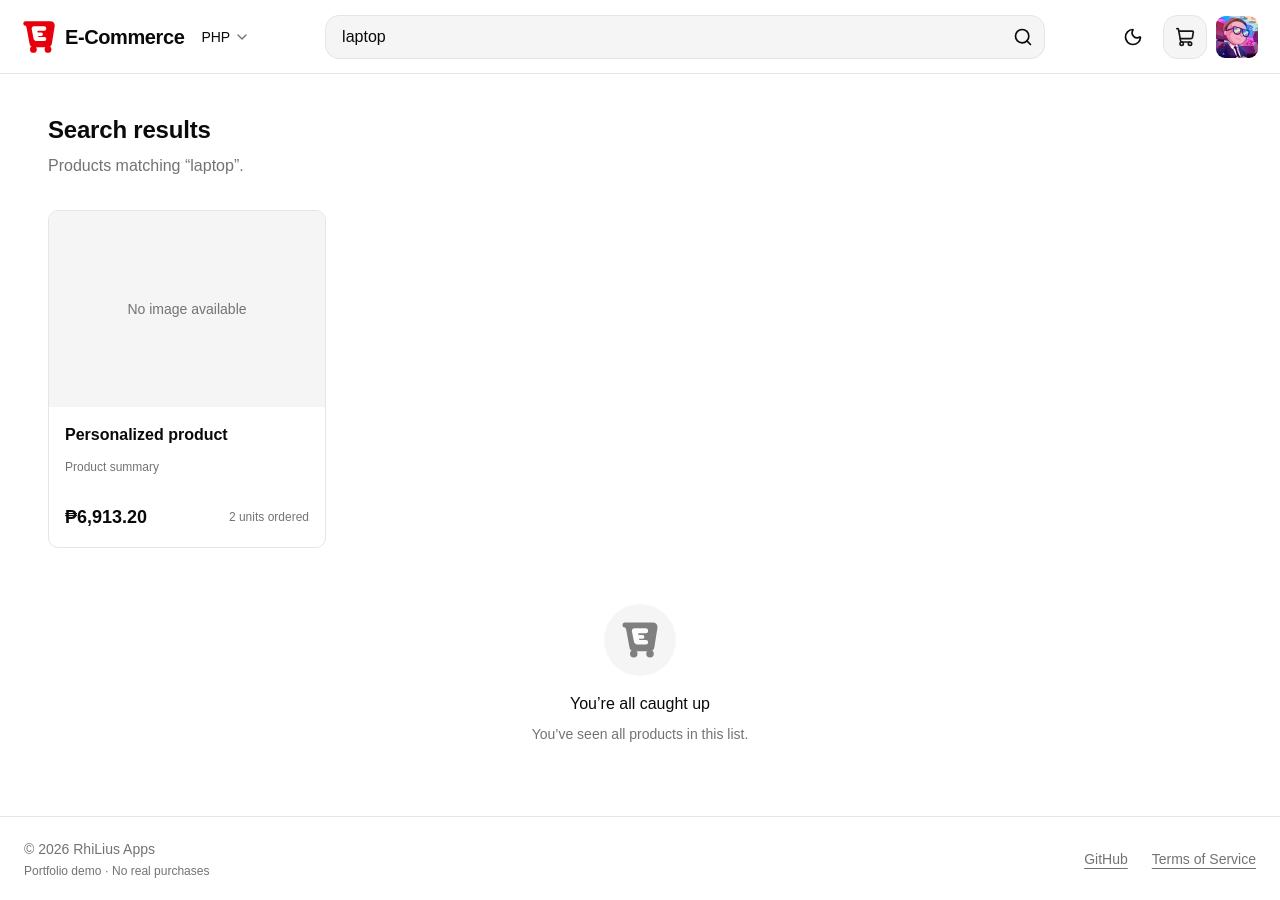
it: Public landing page › logout stays on the catalog and reloads guest rankings (HTTP 200)
The image size is (1280, 900).
Check: the element "Personalized product" is shown, box x1=48 y1=210 x2=326 y2=548
Click the button named "Account": coordinates (1237, 37) x1=1215 y1=15 x2=1259 y2=59
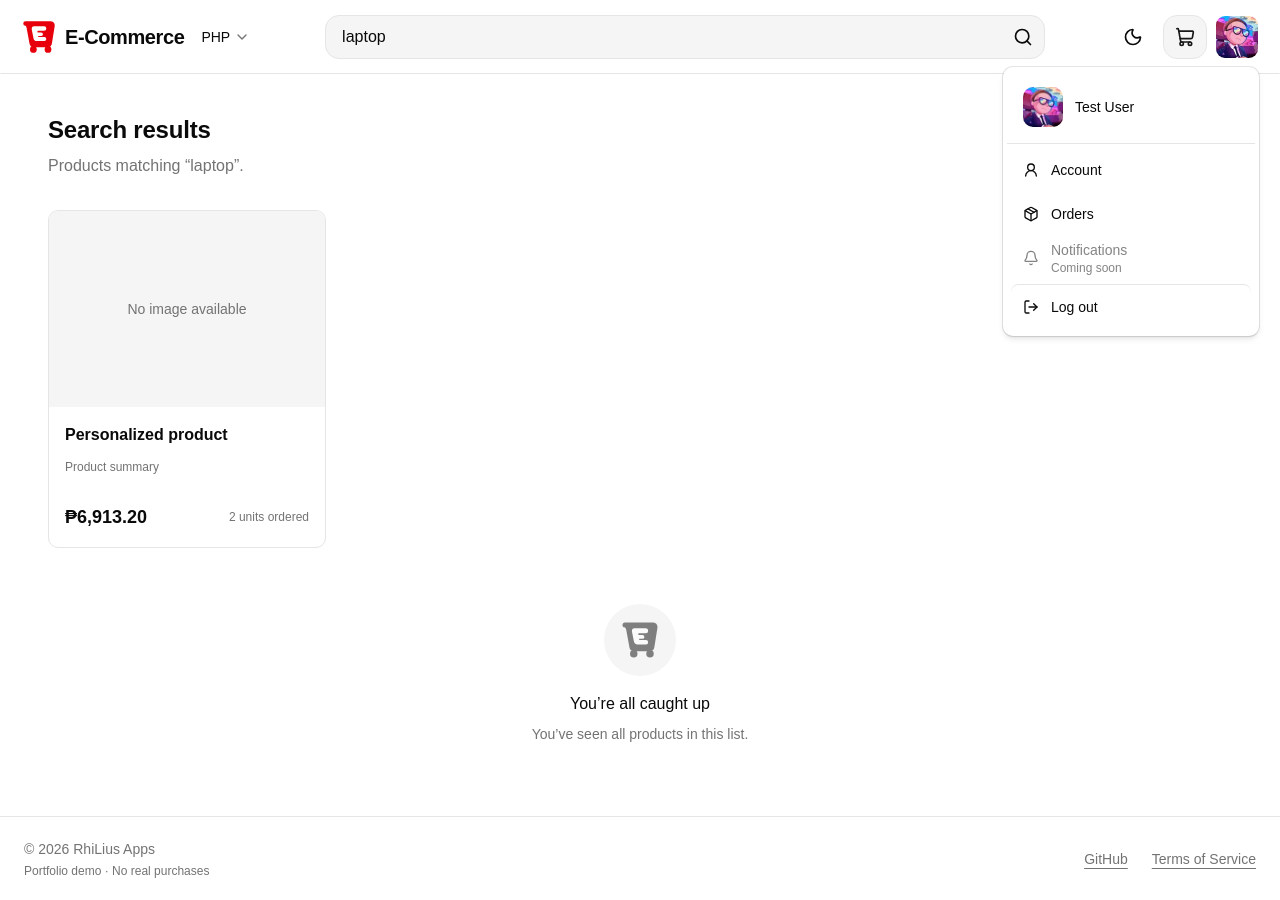
Click the menu item "Log out": coordinates (1131, 306) x1=1011 y1=284 x2=1251 y2=328
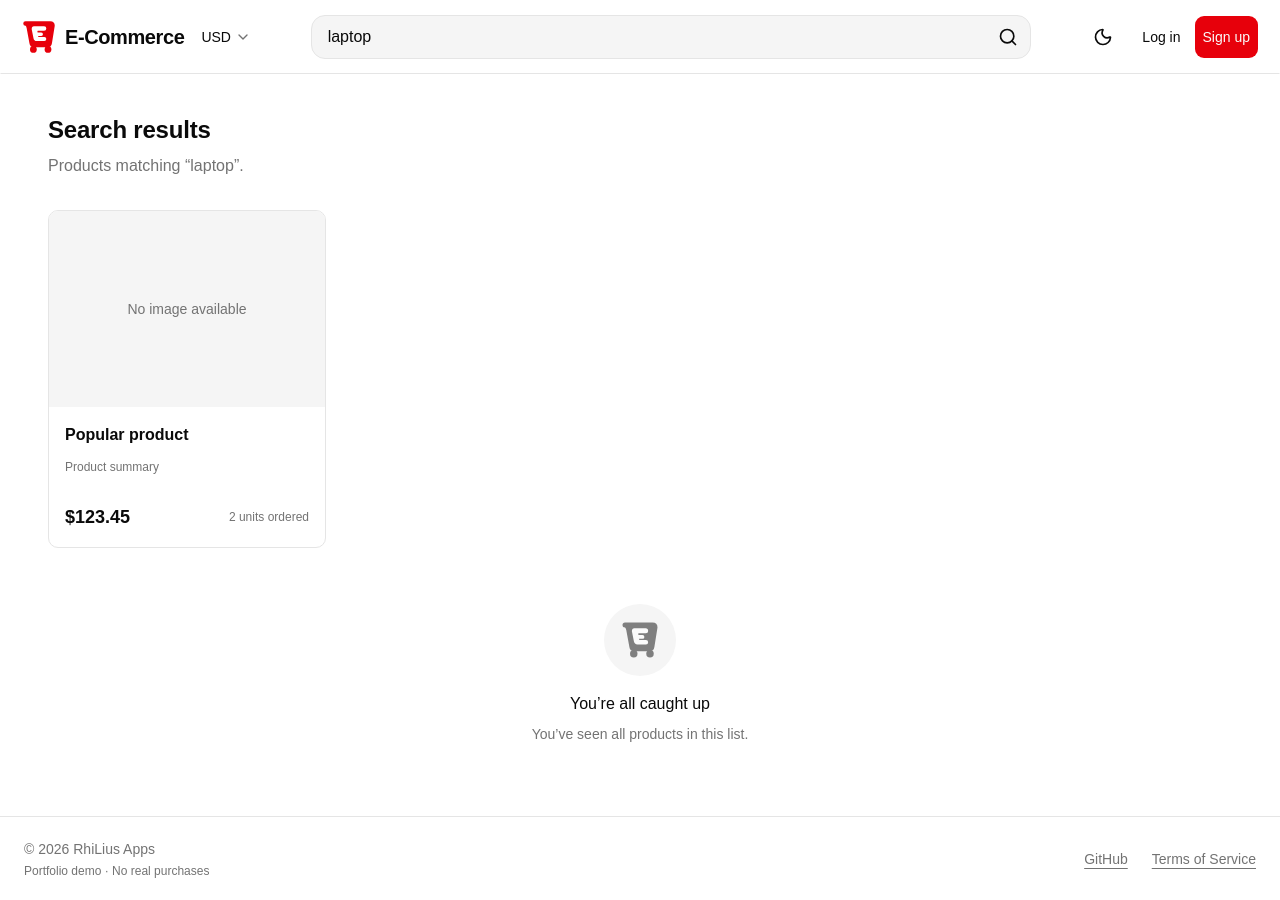
Check: the element "Popular product" is shown, box x1=48 y1=210 x2=326 y2=548
Check: the link "Log in" is shown, box x1=1142 y1=29 x2=1181 y2=45
Check: the menu item "Account" is gone
